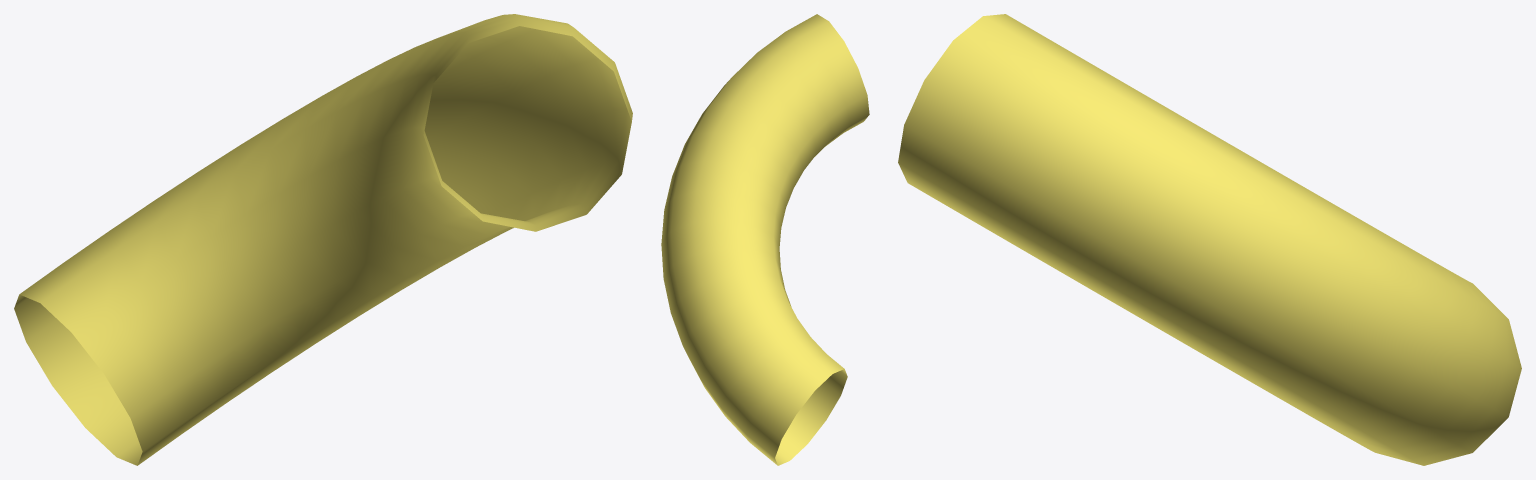
3 views of the same model, side by side, from view 1: azimuth 30°, elevation 25°; view 2: azimuth 150°, elevation 25°; view 3: azimuth 270°, elevation 25° (orthographic). The views are drawn at different scales.
Parts seen in each view (by area): view 1: Torus.004; view 2: Torus.004; view 3: Torus.004.
Part boxes in pixels (bbox=[...]): Torus.004: bbox=[14, 14, 632, 465]; Torus.004: bbox=[661, 14, 869, 465]; Torus.004: bbox=[898, 14, 1521, 465].
Size of the model in its own units: 0.9422 by 1.3 by 1.4.
